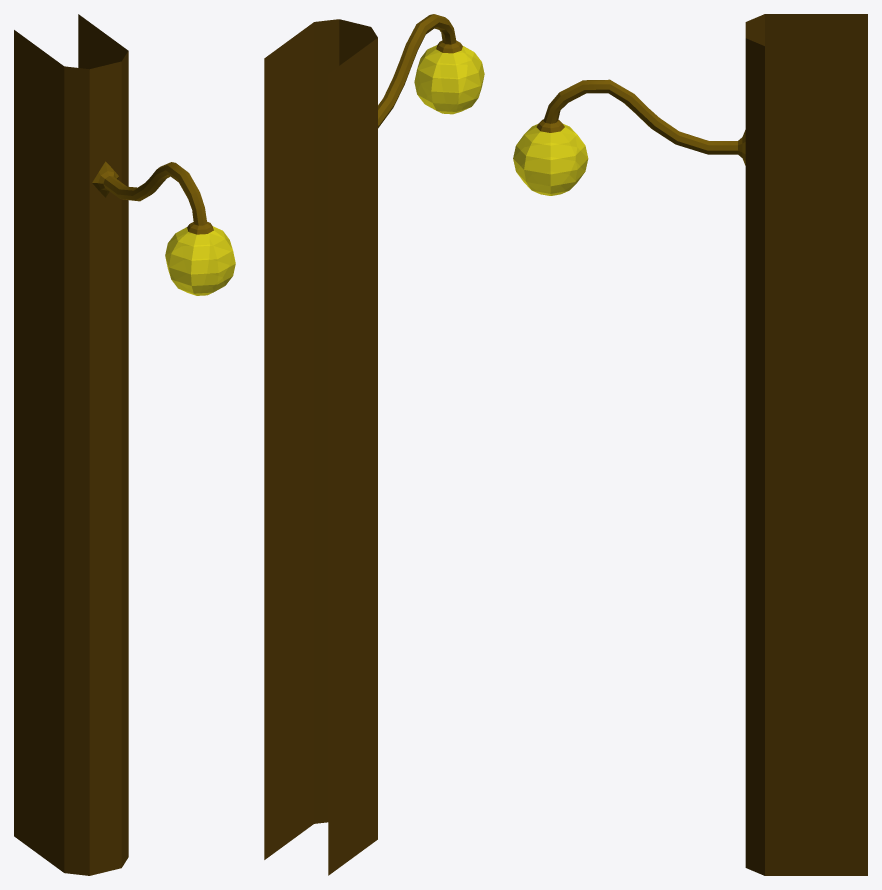
The model's file is VigaConLampara.fbx.
3 renders of one model, left to right at view 1: azimuth 30°, elevation 25°; view 2: azimuth 150°, elevation 25°; view 3: azimuth 270°, elevation 25°, orthographic. The views are drawn at different scales.
Parts seen in each view (by area): view 1: VigaConLampara; view 2: VigaConLampara; view 3: VigaConLampara.
Boxes of the visible parts, <box> form: VigaConLampara: <box>14,14,235,875</box>; VigaConLampara: <box>264,14,484,875</box>; VigaConLampara: <box>513,14,867,875</box>.
Bounding box in the file's own units: 0.25 × 3 × 1.16.
